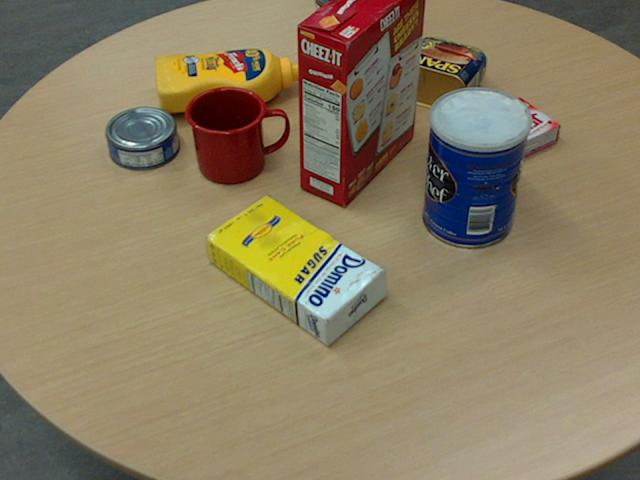cracker_box: (295, 0, 425, 205)
gelatin_box: (465, 95, 559, 163)
large_marker: (329, 21, 345, 110)
master_chef_can: (422, 87, 530, 249)
mug: (183, 86, 287, 183)
mustard_bottle: (154, 48, 306, 112)
potted_meat_can: (390, 36, 485, 114)
sugar_box: (202, 195, 386, 346)
tomato_soup_can: (315, 0, 365, 72)
tuna_fish_can: (104, 106, 178, 169)
